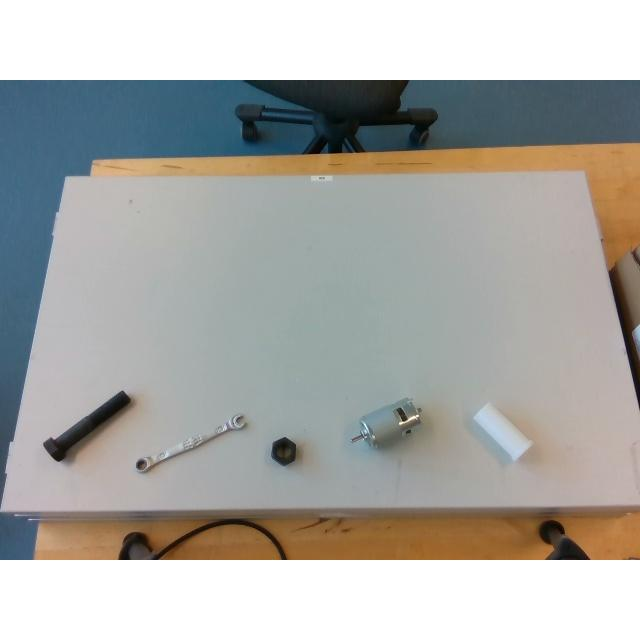M20: (271, 437, 295, 465)
M20_100: (42, 391, 130, 461)
Motor2: (351, 398, 421, 447)
Spacer: (472, 404, 532, 461)
Wrench: (135, 414, 245, 474)
